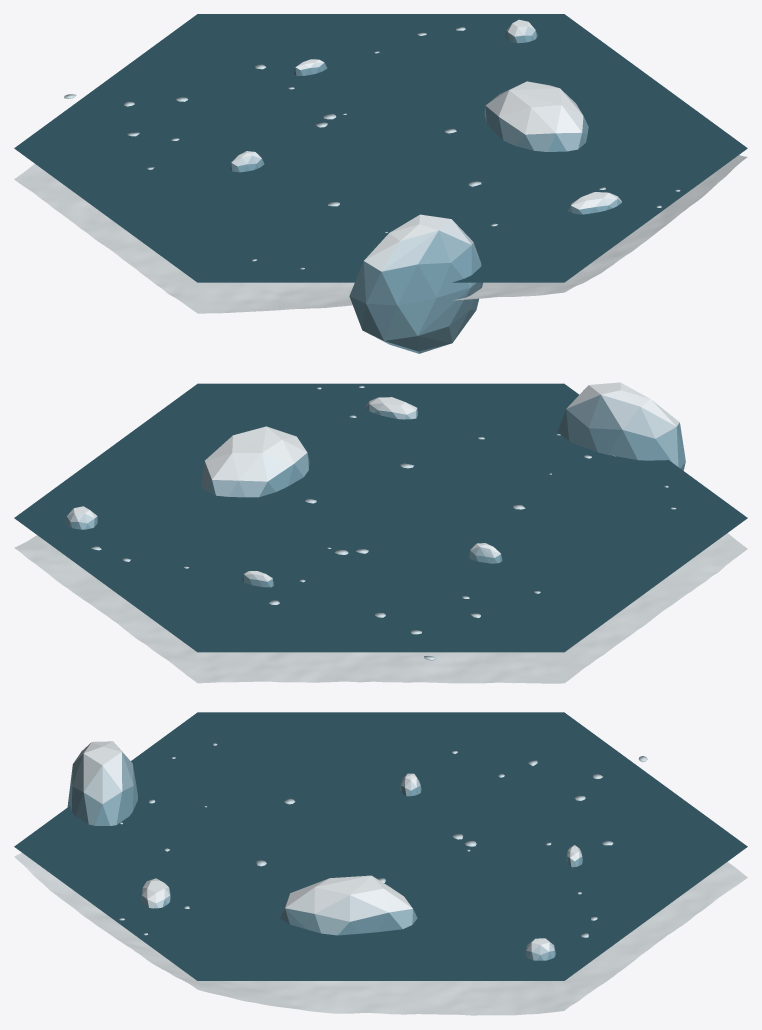
3 views of the same model, one above another, from view 1: azimuth 30°, elevation 25°; view 2: azimuth 150°, elevation 25°; view 3: azimuth 270°, elevation 25° (orthographic).
Visible parts, largest first — view 1: sea_level_0, terrain_v10, WG_15_berg_05, WG_15_berg_00, WG_15_berg_03, WG_15_berg_04; view 2: sea_level_0, terrain_v10, WG_15_berg_05, WG_15_berg_00, WG_15_berg_03, WG_15_berg_04, WG_15_berg_01; view 3: sea_level_0, terrain_v10, WG_15_berg_00, WG_15_berg_05, WG_15_berg_03, WG_15_berg_04.
Boxes of the visible parts, x1=… form: sea_level_0: x1=14, y1=14, x2=747, y2=282; terrain_v10: x1=14, y1=155, x2=747, y2=313; WG_15_berg_05: x1=349, y1=214, x2=482, y2=353; WG_15_berg_00: x1=484, y1=81, x2=588, y2=151; WG_15_berg_03: x1=567, y1=192, x2=621, y2=214; WG_15_berg_04: x1=504, y1=19, x2=537, y2=43; sea_level_0: x1=14, y1=383, x2=747, y2=652; terrain_v10: x1=14, y1=533, x2=747, y2=683; WG_15_berg_05: x1=557, y1=382, x2=685, y2=470; WG_15_berg_00: x1=201, y1=426, x2=309, y2=497; WG_15_berg_03: x1=365, y1=397, x2=417, y2=419; WG_15_berg_04: x1=65, y1=506, x2=97, y2=529; WG_15_berg_01: x1=469, y1=543, x2=502, y2=563; sea_level_0: x1=14, y1=712, x2=747, y2=980; terrain_v10: x1=14, y1=853, x2=747, y2=1015; WG_15_berg_00: x1=280, y1=875, x2=417, y2=935; WG_15_berg_05: x1=67, y1=741, x2=137, y2=825; WG_15_berg_03: x1=141, y1=878, x2=170, y2=908; WG_15_berg_04: x1=525, y1=938, x2=555, y2=960.
Bounding box in the file's own units: 4330 × 975 × 5000.
Materials: 36 (1 with a texture image).
